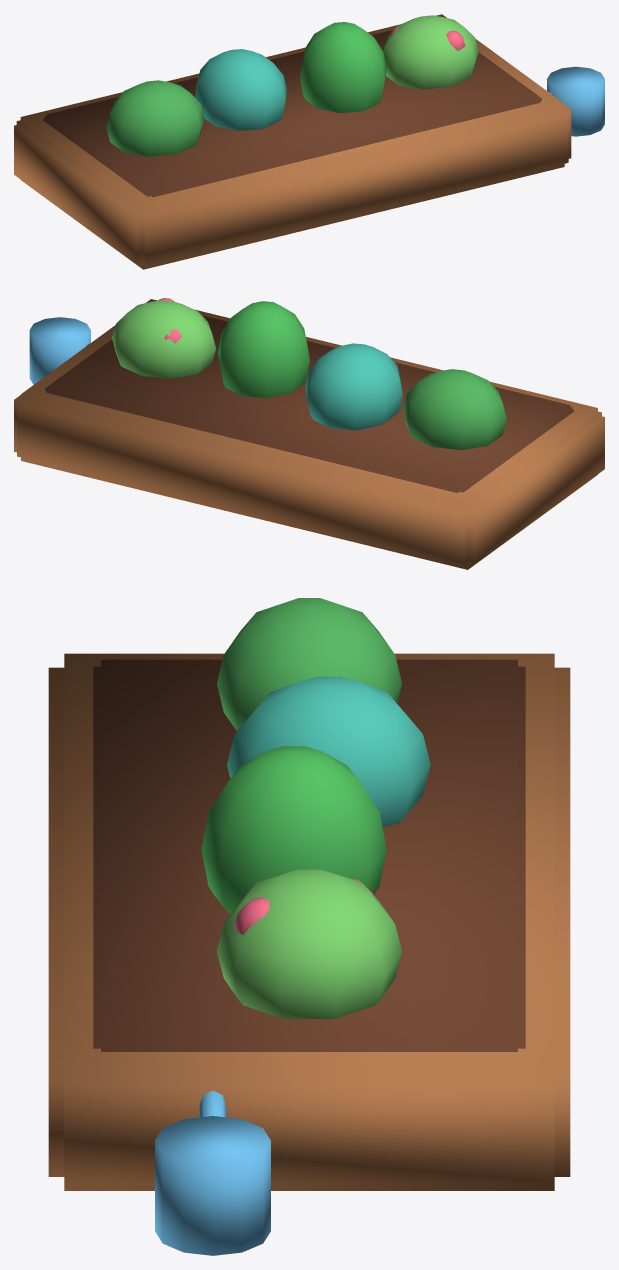
The model's file is GardenPlanterBed.fbx.
3 renders of one model, top to bottom at view 1: azimuth 30°, elevation 25°; view 2: azimuth 150°, elevation 25°; view 3: azimuth 270°, elevation 25°, orthographic. The views are drawn at different scales.
Visible parts, largest first — view 1: GardenPlanterBed; view 2: GardenPlanterBed; view 3: GardenPlanterBed.
Boxes of the visible parts, left/top/right/bottom form: GardenPlanterBed: left=14, top=14, right=604, bottom=269; GardenPlanterBed: left=14, top=298, right=604, bottom=569; GardenPlanterBed: left=48, top=598, right=570, bottom=1255.
Bounding box in the file's own units: 3 × 0.796 × 1.35.
